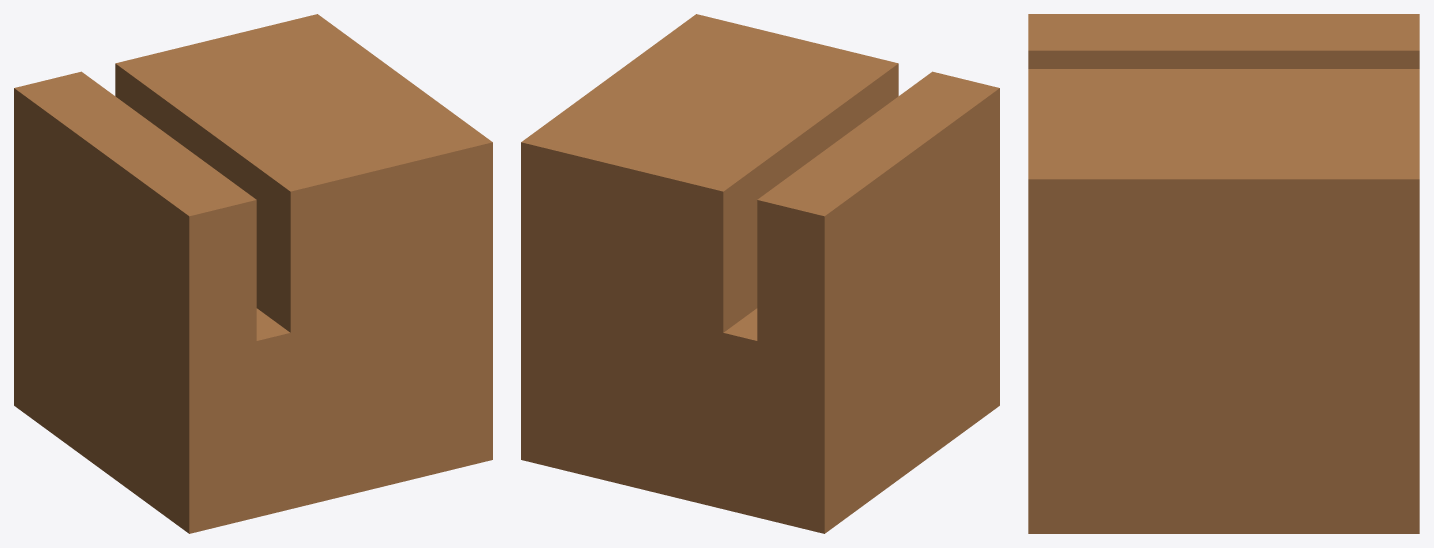
File: Thin_Straight_1S_Model.fbx
3 renders of one model, left to right at view 1: azimuth 30°, elevation 25°; view 2: azimuth 150°, elevation 25°; view 3: azimuth 270°, elevation 25°, orthographic. The views are drawn at different scales.
Visible parts, largest first — view 1: Cube; view 2: Cube; view 3: Cube.
Part boxes in pixels (<box>): Cube: <box>14,14,492,533</box>; Cube: <box>521,14,999,533</box>; Cube: <box>1028,14,1419,533</box>.
Bounding box in the file's own units: 100 × 100 × 100.
